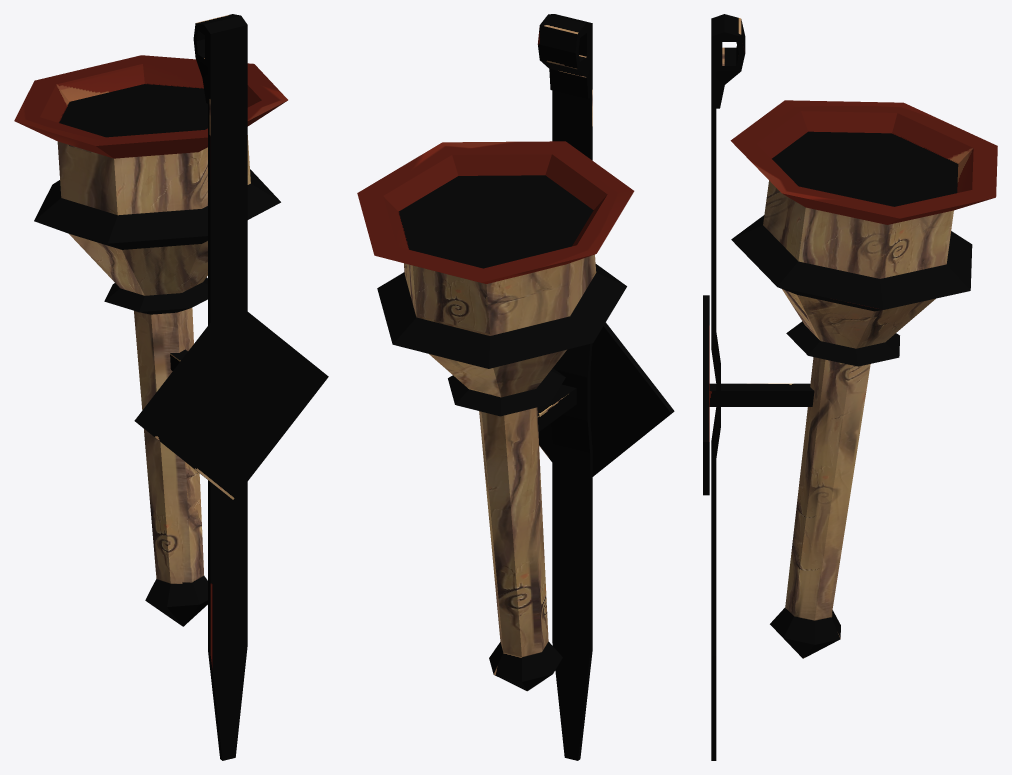
File: wallTorch.glb
The picture shows the model from 3 angles, left to right: view 1: azimuth 30°, elevation 25°; view 2: azimuth 150°, elevation 25°; view 3: azimuth 270°, elevation 25°; orthographic projection.
Parts seen in each view (by area): view 1: torch; view 2: torch; view 3: torch.
Part boxes in pixels (<box>): torch: <box>14,14,328,760</box>; torch: <box>357,14,674,760</box>; torch: <box>703,14,997,760</box>.
Size of the model in its own units: 0.2898 by 0.853 by 0.3101.
Materials: 1 (1 with a texture image).
